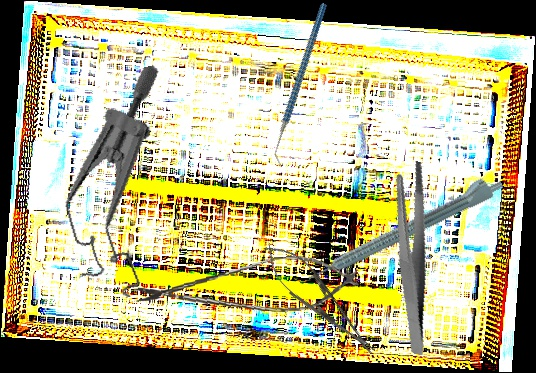Chopper: (228, 2, 375, 167)
Dressing Forceps: (358, 157, 466, 356)
Handpiece: (301, 169, 506, 286)
Micro Scissor: (129, 249, 365, 326)
Needle Holder: (253, 233, 386, 366)
Speculum: (30, 63, 216, 309)
